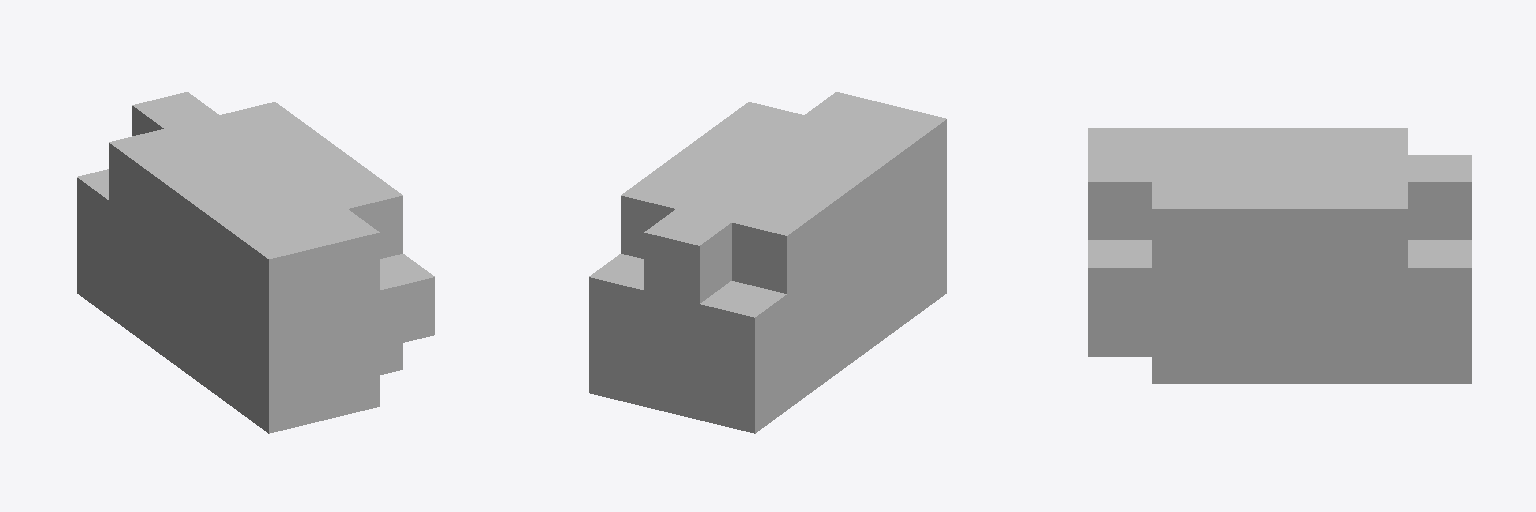
The model's file is rightHand.obj.
3 renders of one model, left to right at view 1: azimuth 30°, elevation 25°; view 2: azimuth 150°, elevation 25°; view 3: azimuth 270°, elevation 25°, orthographic.
Parts seen in each view (by area): view 1: rightHand_Cube.638; view 2: rightHand_Cube.638; view 3: rightHand_Cube.638.
Part boxes in pixels (bbox=[...]): rightHand_Cube.638: bbox=[77, 92, 434, 433]; rightHand_Cube.638: bbox=[589, 92, 946, 433]; rightHand_Cube.638: bbox=[1088, 128, 1471, 383].
Size of the model in its own units: 3 by 3 by 6.